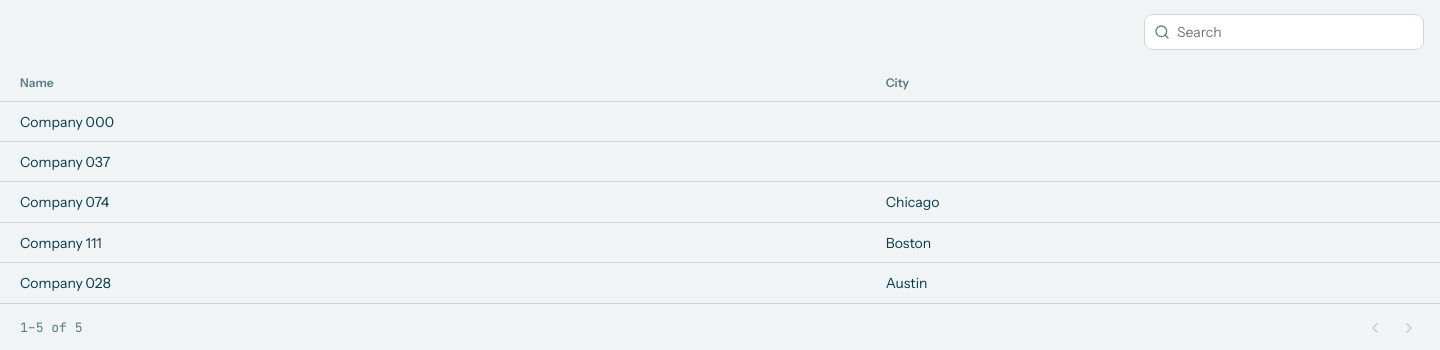
Test: DataTable › finds rows by the text a column shows when it's empty
Type "NO CITY" into the search field at (1284, 32), box 1144,14 -> 1424,50
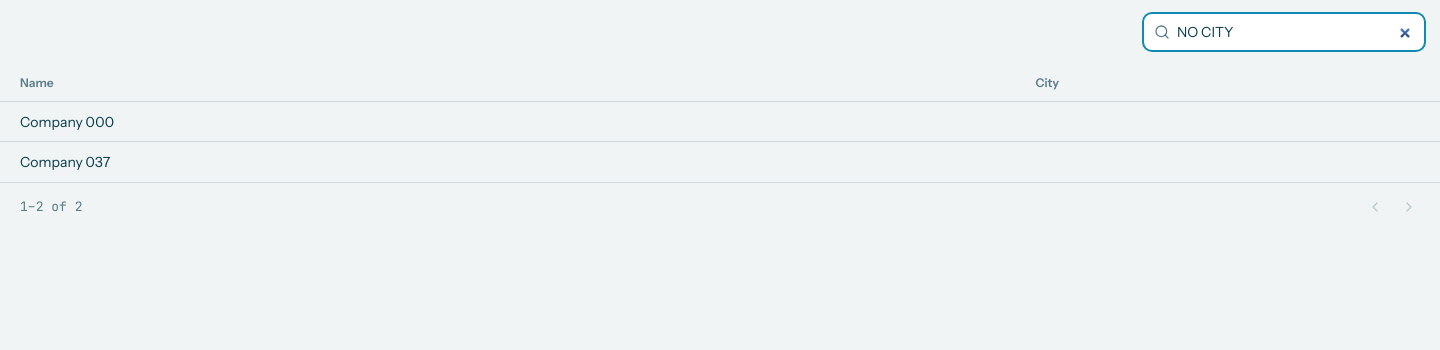
Result: the text "1–2 of 2" is shown at 20,198 -> 82,217
